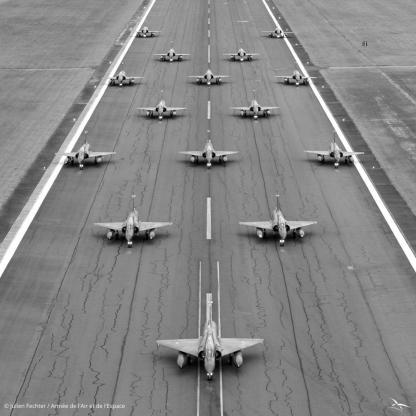Mirage2000: (157, 295, 265, 382), (94, 191, 174, 249), (240, 190, 319, 248), (55, 129, 118, 171), (304, 128, 366, 170), (179, 129, 241, 170), (137, 90, 189, 122), (230, 90, 280, 121), (188, 60, 232, 88), (102, 62, 145, 89), (276, 62, 319, 88), (154, 41, 192, 64), (223, 42, 261, 64), (262, 21, 295, 40), (131, 21, 163, 39)
